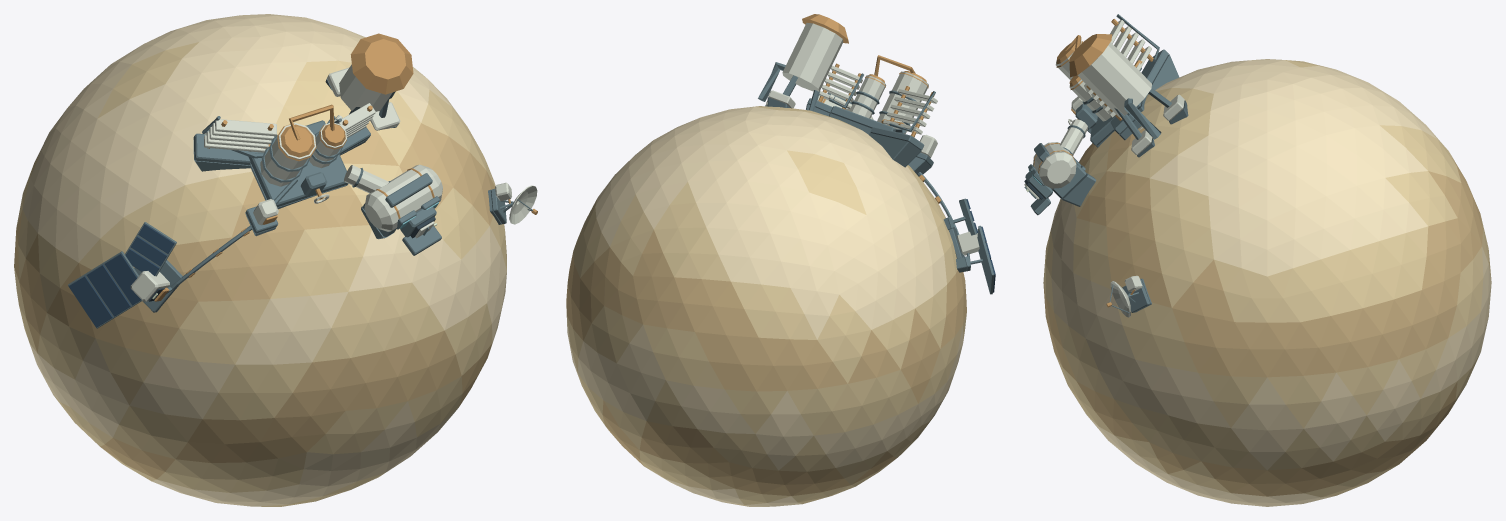
Rendered from Venus.glb.
3 renders of one model, left to right at view 1: azimuth 30°, elevation 25°; view 2: azimuth 150°, elevation 25°; view 3: azimuth 270°, elevation 25°, orthographic. The views are drawn at different scales.
Visible parts, largest first — view 1: S6_Venus • modeled surfaces; view 2: S6_Venus • modeled surfaces; view 3: S6_Venus • modeled surfaces.
Boxes of the visible parts, x1=… form: S6_Venus • modeled surfaces: x1=14, y1=14, x2=537, y2=506; S6_Venus • modeled surfaces: x1=566, y1=14, x2=995, y2=506; S6_Venus • modeled surfaces: x1=1024, y1=14, x2=1491, y2=506.
Bounding box in the file's own units: 1.73 × 1.86 × 1.71.
